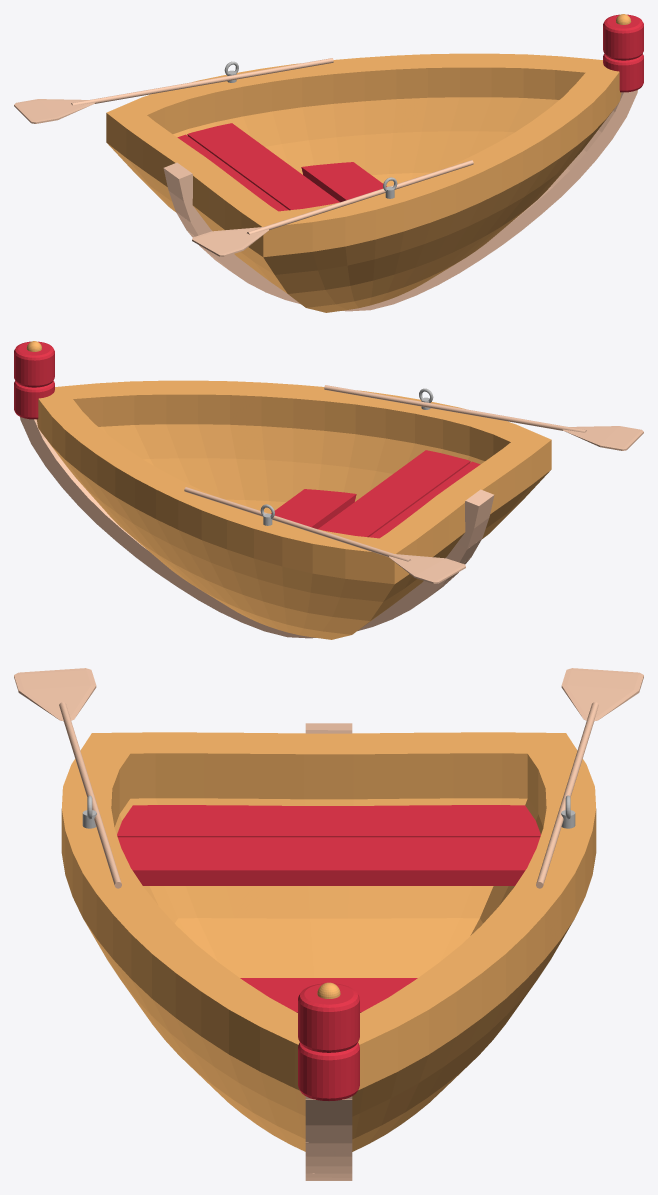
File: bote2.fbx
3 renders of one model, top to bottom at view 1: azimuth 30°, elevation 25°; view 2: azimuth 150°, elevation 25°; view 3: azimuth 270°, elevation 25°, orthographic. The views are drawn at different scales.
Parts seen in each view (by area): view 1: Cube, Cube.001, Cylinder.003, Cube.003, Cube.004, Cylinder.001, Cylinder, Cube.002; view 2: Cube, Cube.001, Cylinder.003, Cube.003, Cube.004, Cylinder.001, Cylinder, Cube.002; view 3: Cube, Cube.003, Cube.002, Cylinder.003, Cube.001, Cylinder.001, Cylinder, Cube.004.
Part boxes in pixels (x1,y1,x2,y2): Cube: (106, 53, 621, 312); Cube.001: (163, 90, 637, 311); Cylinder.003: (14, 58, 473, 256); Cube.003: (187, 123, 339, 210); Cube.004: (301, 162, 386, 202); Cylinder.001: (603, 14, 643, 60); Cylinder: (603, 54, 643, 92); Cube.002: (177, 134, 288, 211); Cube: (36, 380, 551, 639); Cube.001: (20, 417, 494, 638); Cylinder.003: (184, 385, 643, 583); Cube.003: (318, 450, 470, 537); Cube.004: (271, 489, 356, 529); Cylinder.001: (14, 341, 54, 387); Cylinder: (14, 381, 54, 419); Cube.002: (369, 461, 480, 538); Cube: (61, 732, 596, 1151); Cube.003: (118, 837, 539, 885); Cube.002: (117, 805, 540, 837); Cylinder.003: (14, 668, 643, 888); Cube.001: (305, 723, 352, 1180); Cylinder.001: (298, 983, 359, 1052); Cylinder: (298, 1042, 359, 1100); Cube.004: (240, 978, 417, 1012).
Size of the model in its own units: 2363 by 965 by 1611.
